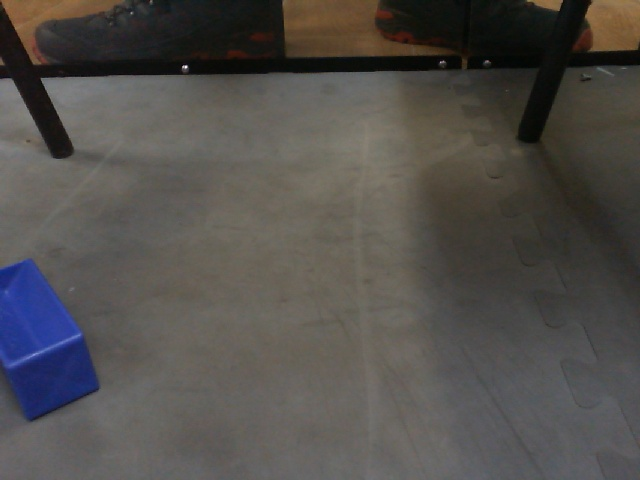BlueSample: (1, 254, 104, 422)
